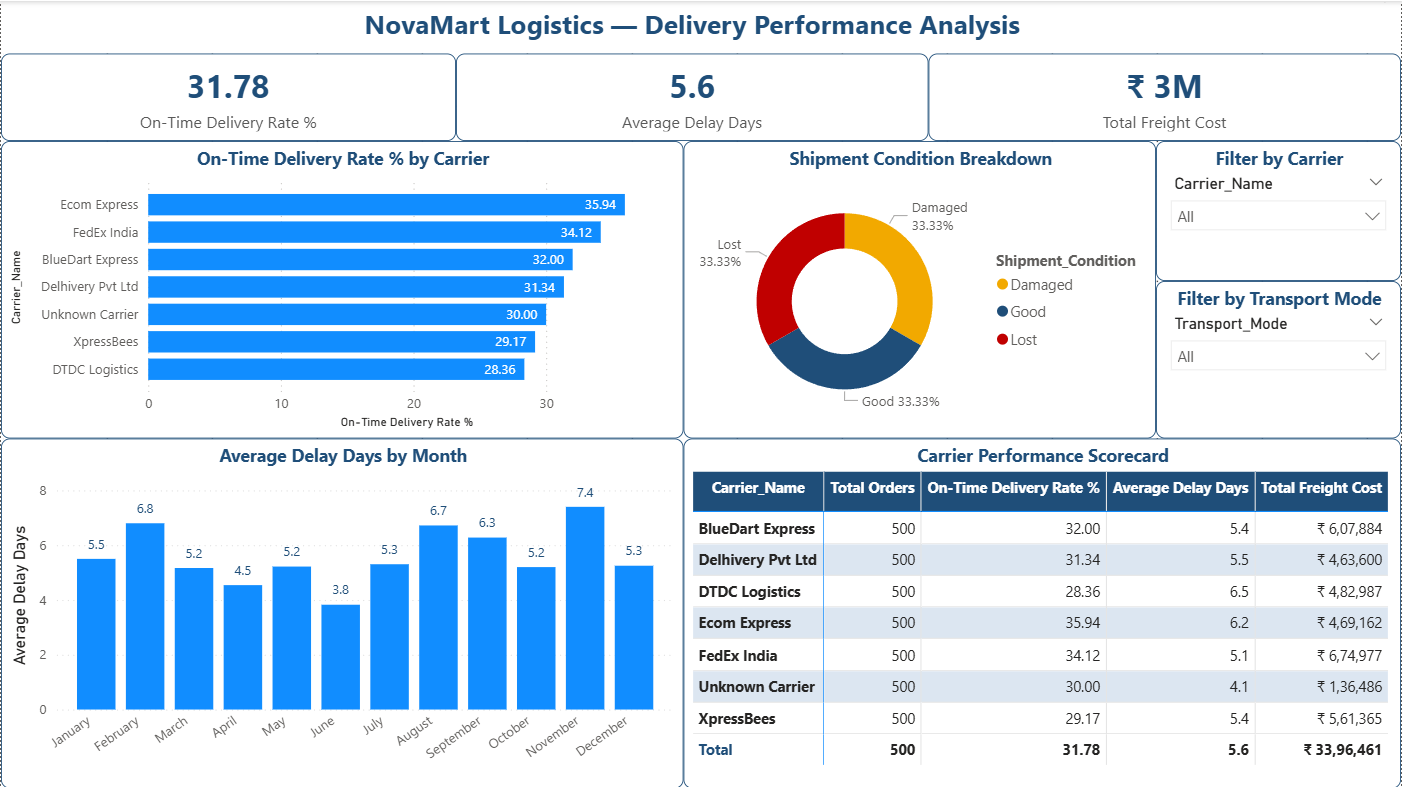

The dashboard page shown, as its layout file describes it:
{"tool":"powerbi","page":{"name":"Delivery Performance","canvas":[1280,720],"ordinal":1},"visuals":[{"type":"textbox","box":[0,0,1264,48],"z":0},{"type":"card","fields":{"Values":["_Measures.On-Time Delivery Rate %"]},"box":[0,48,416,80],"z":1000},{"type":"card","fields":{"Values":["_Measures.Average Delay Days"]},"box":[416,48,432,80],"z":2000},{"type":"card","fields":{"Values":["_Measures.Total Freight Cost"]},"box":[848,48,432,80],"z":3000},{"type":"clusteredBarChart","title":"On-Time Delivery Rate % by Carrier","fields":{"Category":["Shipments.Carrier_Name"],"Y":["_Measures.On-Time Delivery Rate %"]},"box":[0,128,624,272],"z":4000},{"type":"clusteredColumnChart","title":"Average Delay Days by Month","fields":{"Category":["Shipments.Dispatch_Date.Variation.Date Hierarchy.Month"],"Y":["_Measures.Average Delay Days"]},"box":[0,400,624,320],"z":5000},{"type":"donutChart","title":"Shipment Condition Breakdown","fields":{"Category":["Shipments.Shipment_Condition"],"Y":["_Measures.Total Orders"]},"box":[624,128,432,272],"z":6000},{"type":"pivotTable","title":"Carrier Performance Scorecard","fields":{"Rows":["Shipments.Carrier_Name"],"Values":["_Measures.Total Orders","_Measures.On-Time Delivery Rate %","_Measures.Average Delay Days","_Measures.Total Freight Cost"]},"box":[624,400,656,320],"z":7000},{"type":"slicer","title":"Filter by Carrier","fields":{"Values":["Shipments.Carrier_Name"]},"box":[1056,128,224,128],"z":8000},{"type":"slicer","title":"Filter by Transport Mode","fields":{"Values":["Shipments.Transport_Mode"]},"box":[1056,256,224,144],"z":9000}]}

Visuals, with their boxes in screenshot pixels (x1, y1, x2, y2), scaled from the page's 1280x720 canvas onto the 1402x787 screenshot:
textbox: left=0, top=0, right=1384, bottom=52
card - _Measures.On-Time Delivery Rate %: left=0, top=52, right=456, bottom=140
card - _Measures.Average Delay Days: left=456, top=52, right=929, bottom=140
card - _Measures.Total Freight Cost: left=929, top=52, right=1401, bottom=140
"On-Time Delivery Rate % by Carrier" clusteredBarChart: left=0, top=140, right=683, bottom=437
"Average Delay Days by Month" clusteredColumnChart: left=0, top=437, right=683, bottom=786
"Shipment Condition Breakdown" donutChart: left=683, top=140, right=1157, bottom=437
"Carrier Performance Scorecard" pivotTable: left=683, top=437, right=1401, bottom=786
"Filter by Carrier" slicer: left=1157, top=140, right=1401, bottom=280
"Filter by Transport Mode" slicer: left=1157, top=280, right=1401, bottom=437
